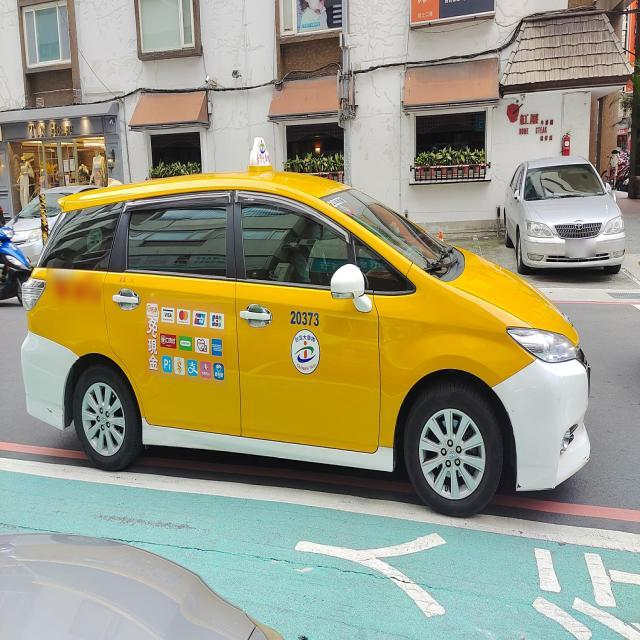Taxi: (21, 139, 590, 515)
